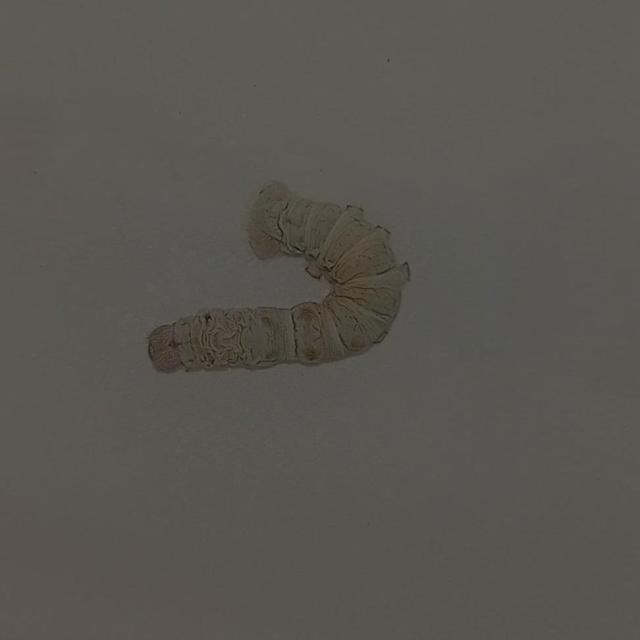Healthy: (121, 160, 423, 410)
